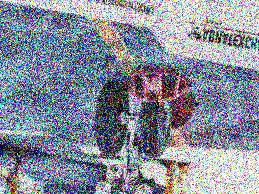chock: (124, 61, 195, 110), (167, 89, 202, 132)
wheel: (88, 78, 136, 158), (132, 96, 176, 160)
